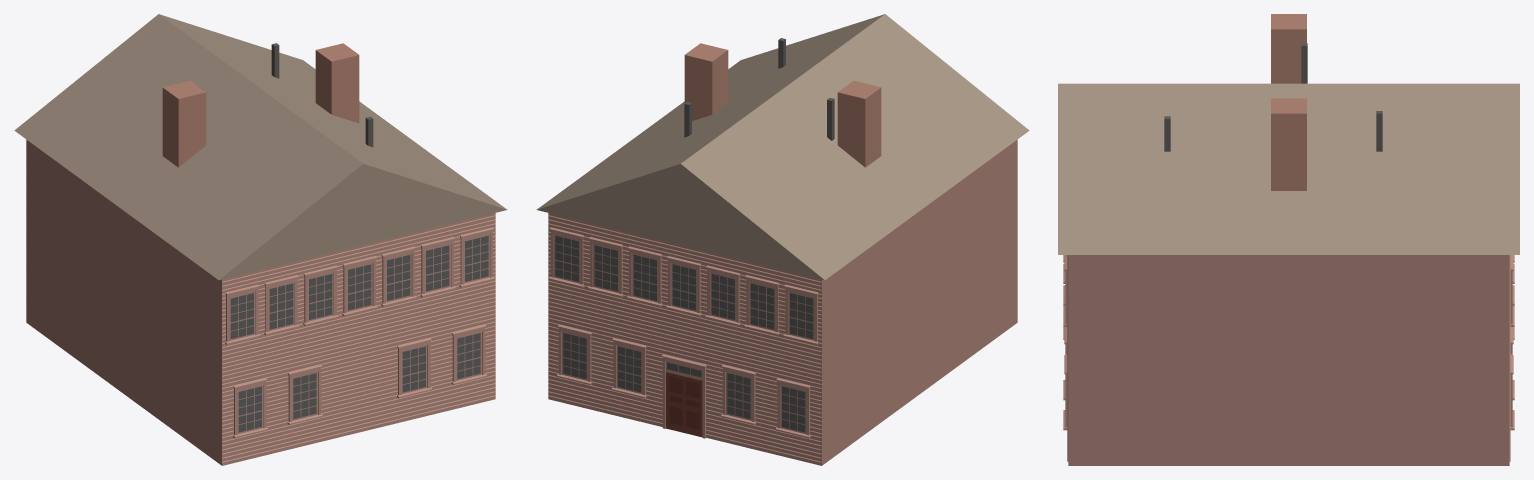
File: recon_1835_north_h2_028__inferred_1835.glb
3 renders of one model, left to right at view 1: azimuth 30°, elevation 25°; view 2: azimuth 150°, elevation 25°; view 3: azimuth 270°, elevation 25°, orthographic. The views are drawn at different scales.
Parts seen in each view (by area): view 1: recon_1835_north_h2_028__inferred_1835; view 2: recon_1835_north_h2_028__inferred_1835; view 3: recon_1835_north_h2_028__inferred_1835.
Part boxes in pixels (x1=…): recon_1835_north_h2_028__inferred_1835: x1=14, y1=14, x2=507, y2=465; recon_1835_north_h2_028__inferred_1835: x1=536, y1=14, x2=1029, y2=465; recon_1835_north_h2_028__inferred_1835: x1=1058, y1=14, x2=1519, y2=465.
Bounding box in the file's own units: 9.38 × 8.99 × 11.51.
